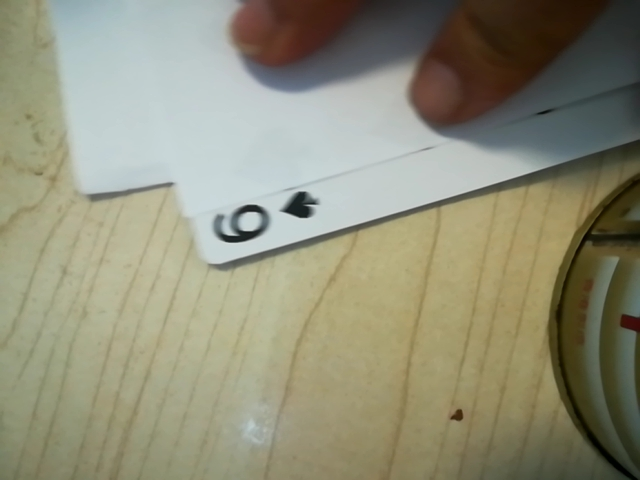ht 6: (200, 180, 331, 258)
